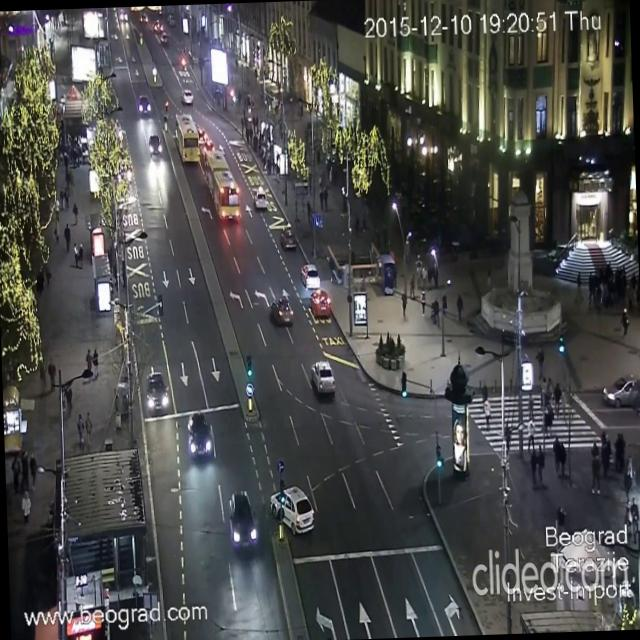bus: (202, 153, 240, 224), (174, 108, 200, 165)
car: (268, 484, 314, 536), (227, 488, 258, 551), (602, 372, 640, 411), (185, 411, 212, 461), (145, 370, 169, 410), (310, 359, 336, 394), (270, 294, 294, 326), (311, 285, 328, 315), (302, 262, 320, 286), (280, 225, 294, 252), (136, 92, 152, 114), (150, 134, 164, 158), (199, 130, 212, 152), (256, 187, 267, 211), (181, 88, 191, 101)
